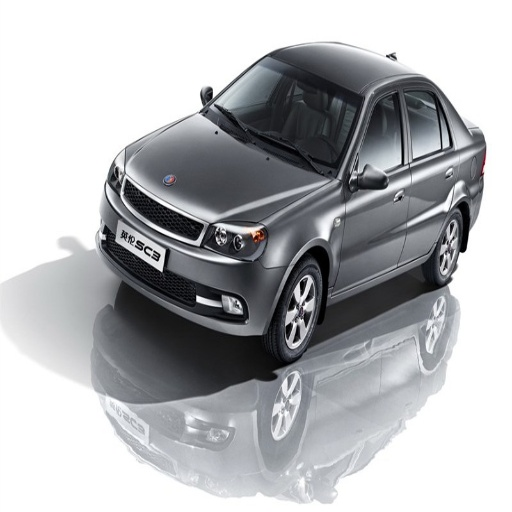front_bumper: (100, 175, 288, 337)
front_glass: (214, 48, 363, 175)
front_left_door: (339, 80, 410, 288)
